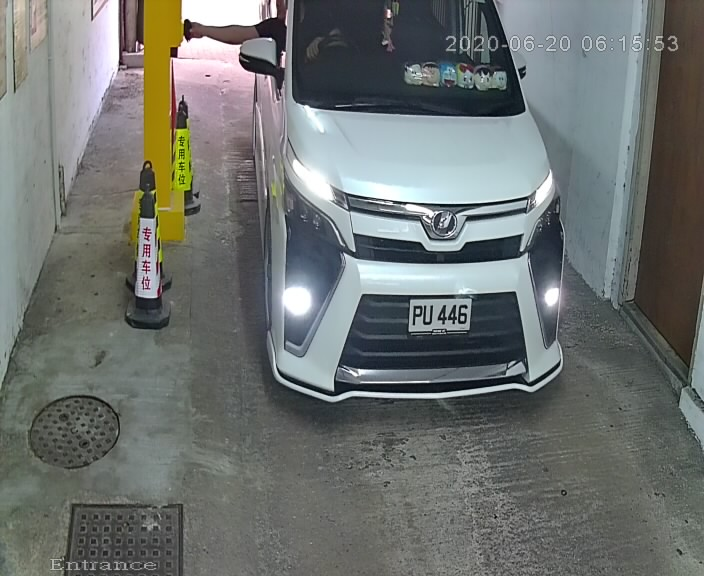privatecar: (220, 3, 592, 435)
